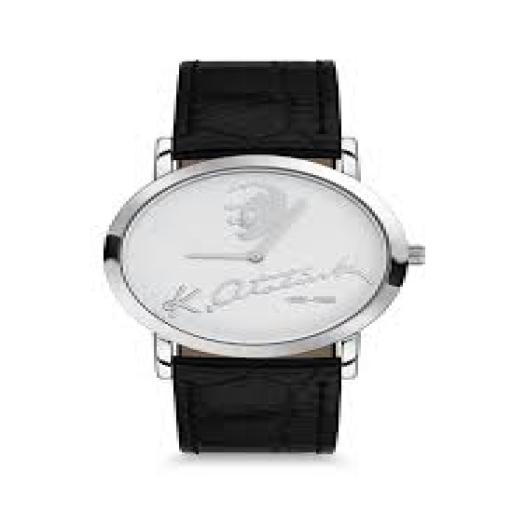KolSaati: (83, 46, 450, 467)
